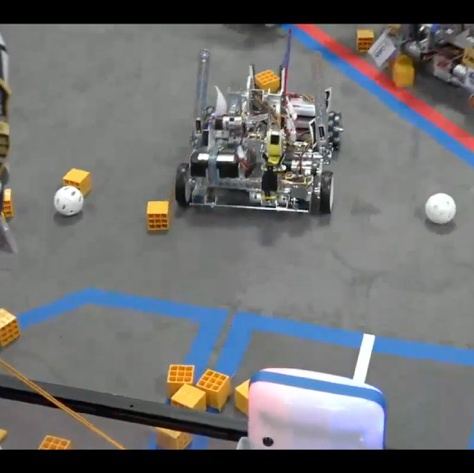robot: (173, 24, 346, 220), (399, 24, 473, 99)
